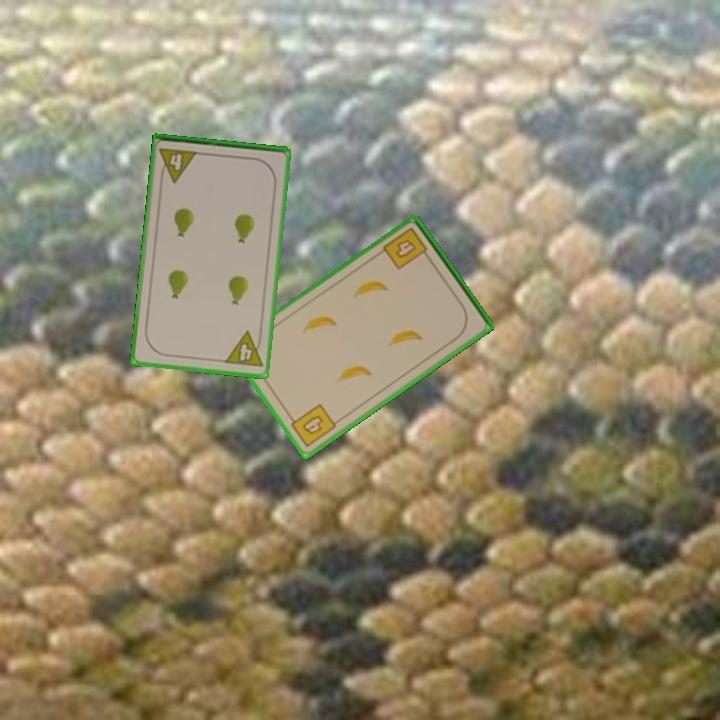4b: (285, 400, 339, 450), (379, 224, 434, 273)
4p: (221, 328, 266, 370), (156, 144, 200, 185)
